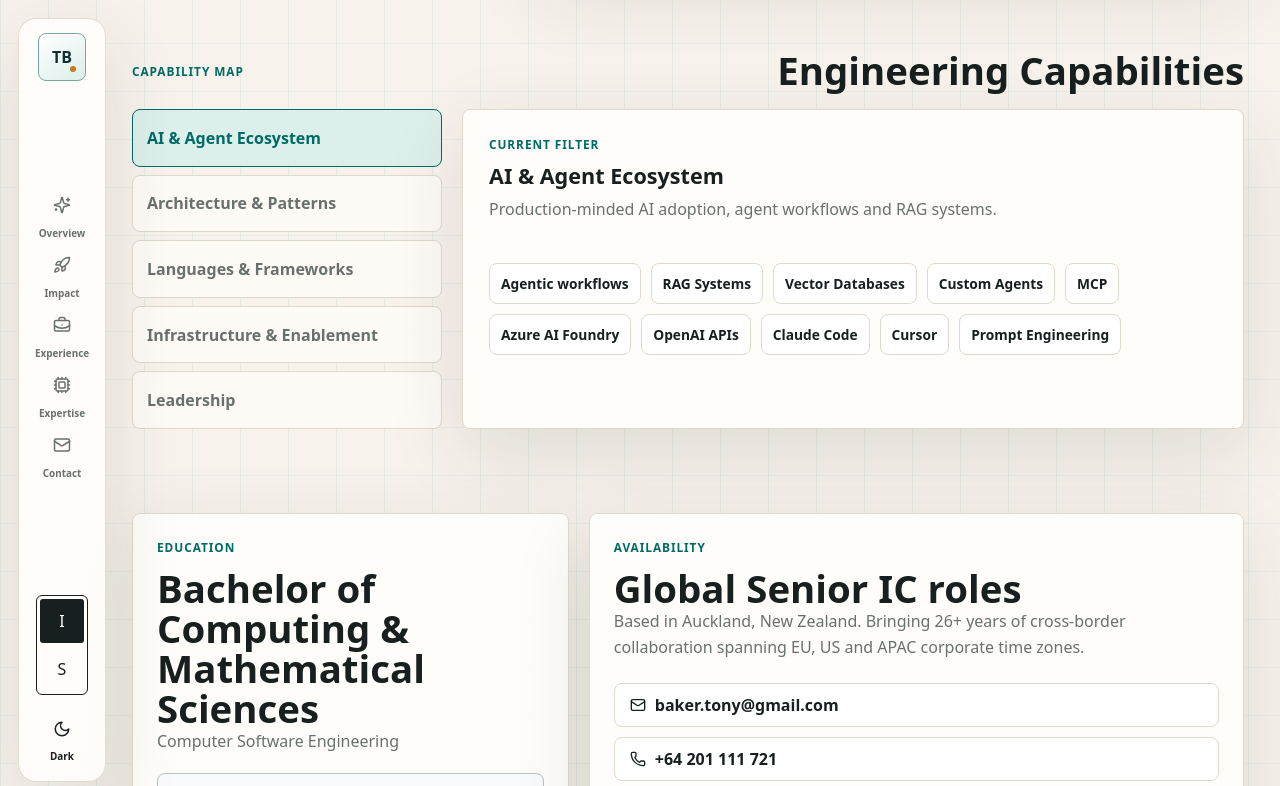
App › updates the expertise panel when a capability category is selected
(page scrolled)
Expected: the text "Production-minded AI adoption, agent workflows and RAG systems." is shown, x1=489 y1=198 x2=997 y2=220
Click the tab "Leadership" at (191, 400), box x1=132 y1=371 x2=442 y2=429
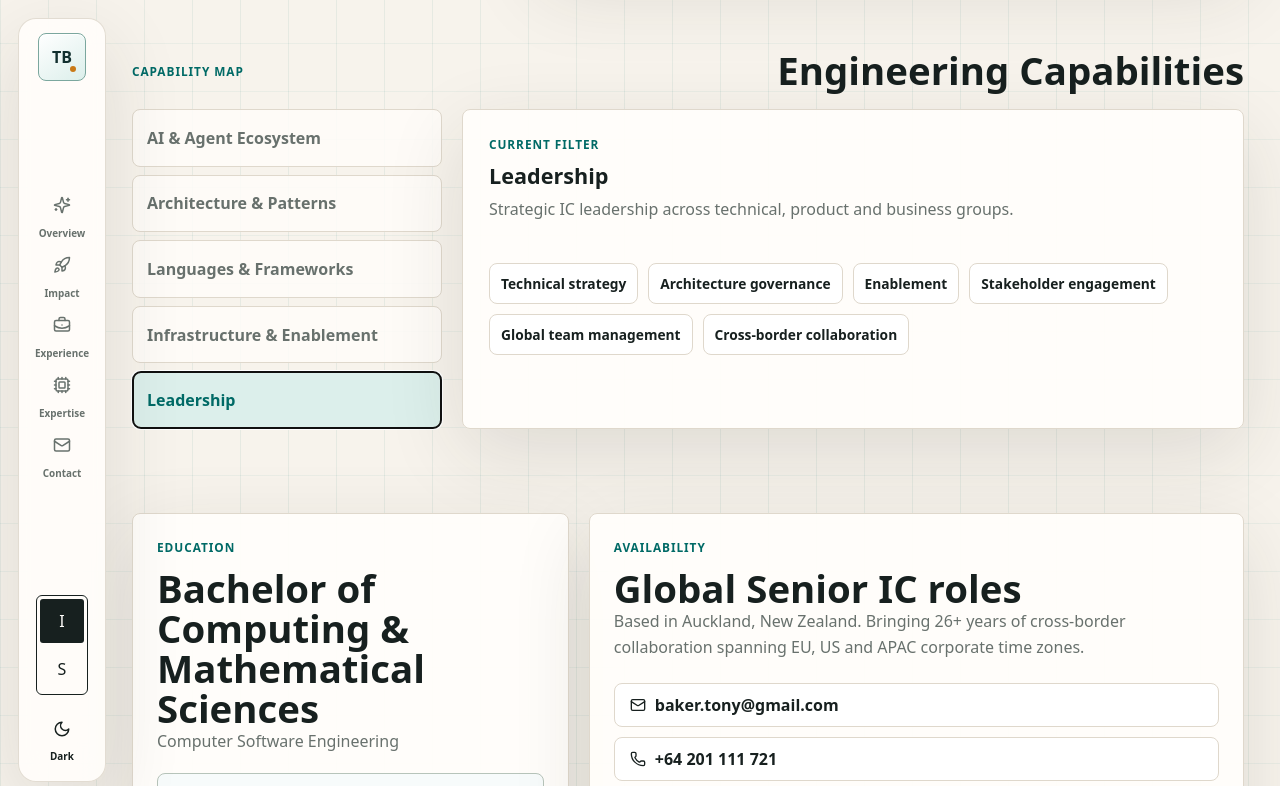
Result: the text "Strategic IC leadership across technical, product and business groups." is shown at x1=489 y1=198 x2=1014 y2=220
Result: the text "Technical strategy" is shown at x1=489 y1=263 x2=638 y2=304
Result: the text "Architecture governance" is shown at x1=648 y1=263 x2=843 y2=304
